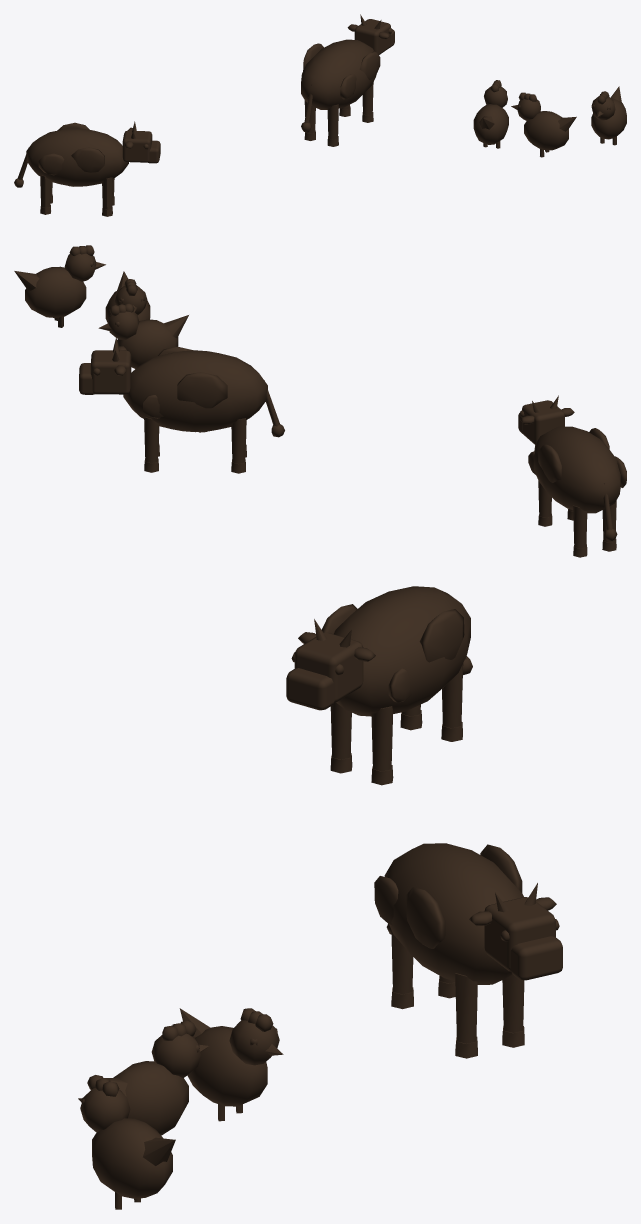
File: painted-animals.glb
The picture shows the model from 3 angles, top to bottom: view 1: azimuth 30°, elevation 25°; view 2: azimuth 150°, elevation 25°; view 3: azimuth 270°, elevation 25°; orthographic projection. The views are drawn at different scales.
Parts seen in each view (by area): view 1: painted-animals-outline; view 2: painted-animals-outline; view 3: painted-animals-outline.
Boxes of the visible parts, left/top/right/bottom form: painted-animals-outline: left=14, top=14, right=626, bottom=216; painted-animals-outline: left=14, top=245, right=626, bottom=557; painted-animals-outline: left=78, top=586, right=562, bottom=1209.
Size of the model in its own units: 9.03 by 1.48 by 3.57.
